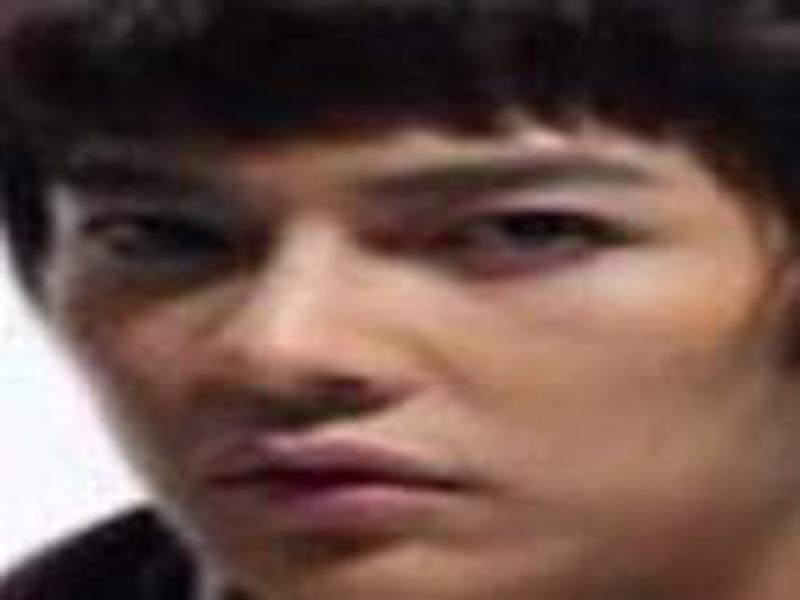without_mask: (38, 108, 778, 591)
